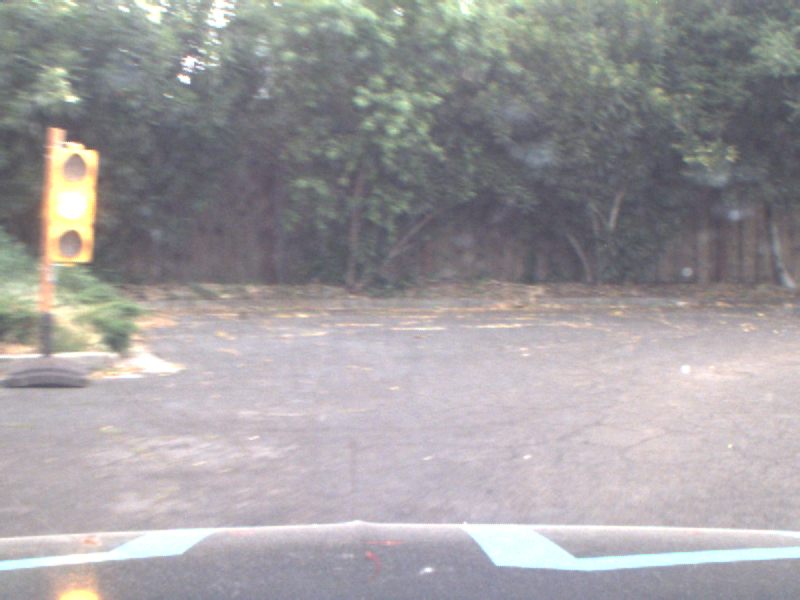Yellow: (45, 144, 91, 260)
